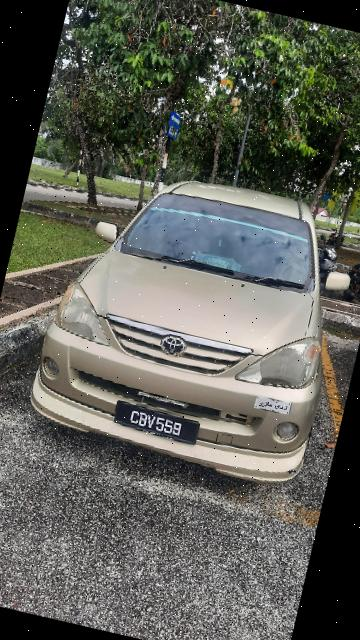License_Plate: (111, 397, 206, 450)
car: (12, 140, 360, 499)
